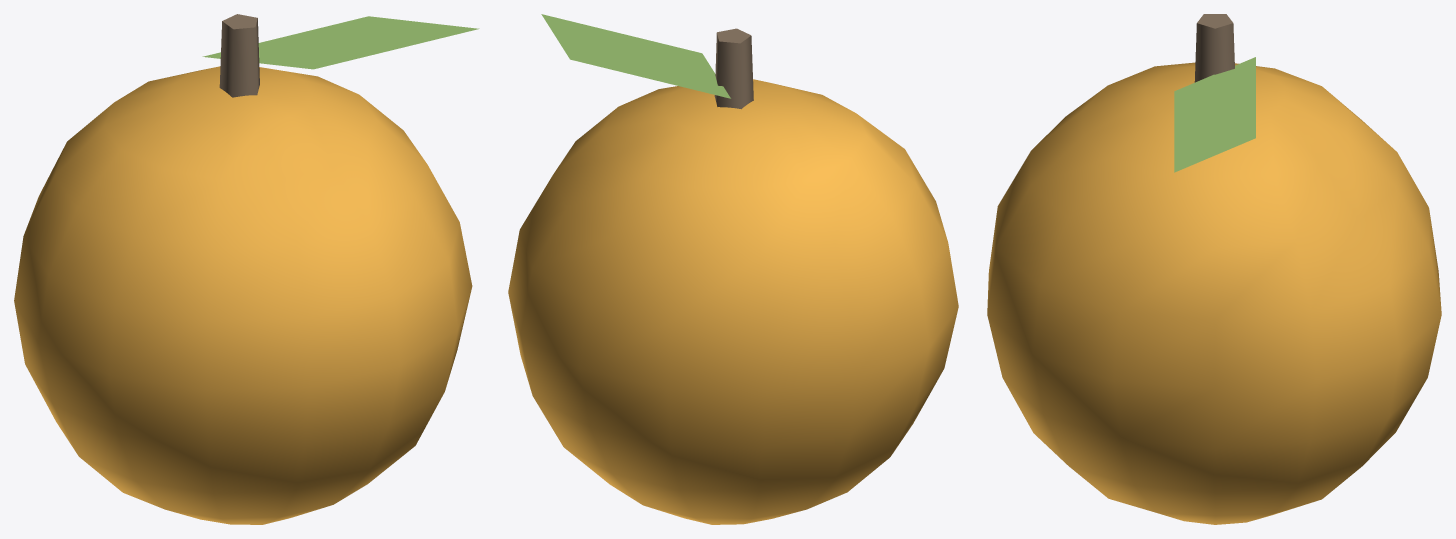
The model's file is res_orange.glb.
3 views of the same model, side by side, from view 1: azimuth 30°, elevation 25°; view 2: azimuth 150°, elevation 25°; view 3: azimuth 270°, elevation 25° (orthographic). The views are drawn at different scales.
Parts seen in each view (by area): view 1: Orange; view 2: Orange; view 3: Orange.
Boxes of the visible parts, left/top/right/bottom form: Orange: left=14, top=14, right=479, bottom=524; Orange: left=508, top=14, right=958, bottom=524; Orange: left=987, top=14, right=1441, bottom=524.
Bounding box in the file's own units: 0.2532 × 0.2798 × 0.236.
